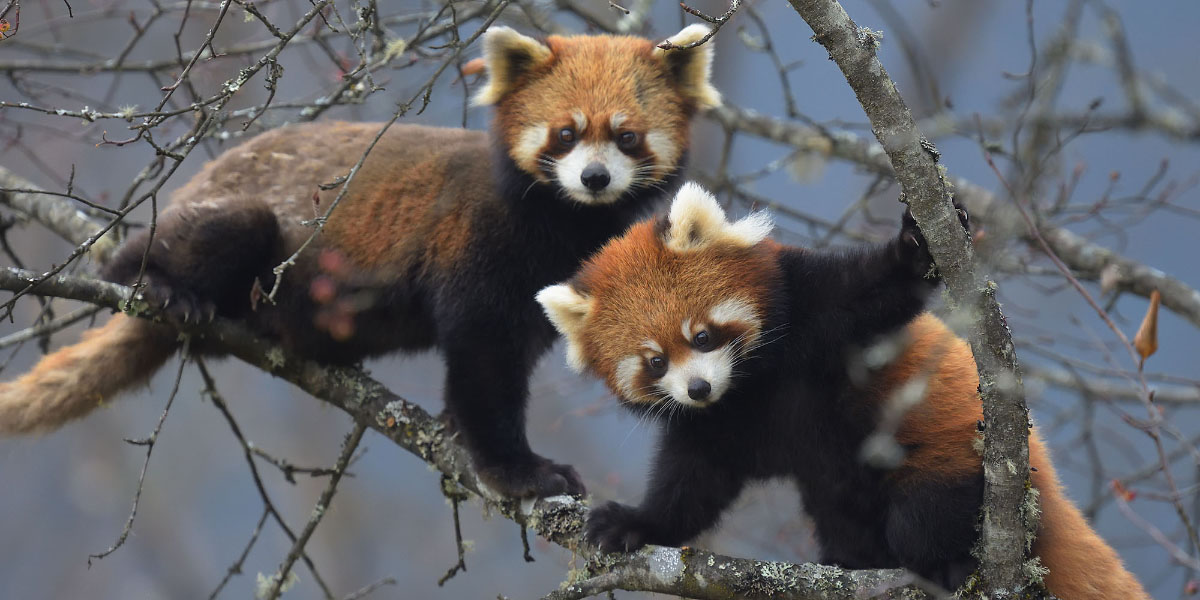red_panda: (158, 35, 712, 493), (566, 206, 1090, 562)
